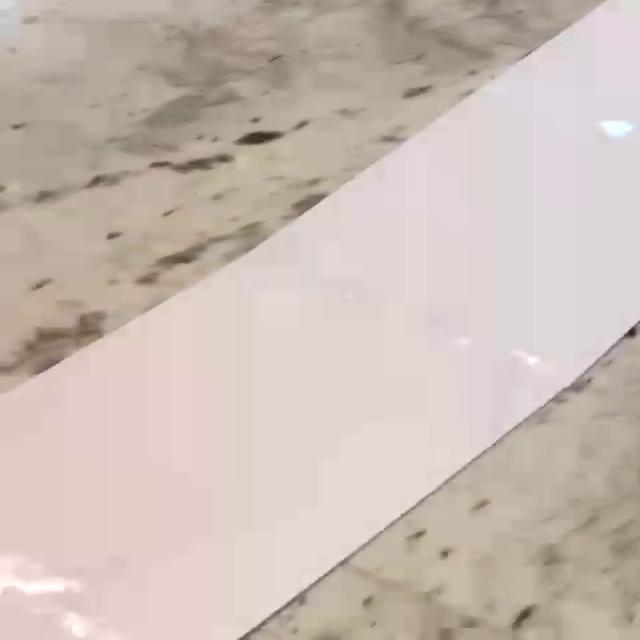road: (0, 0, 640, 640)
